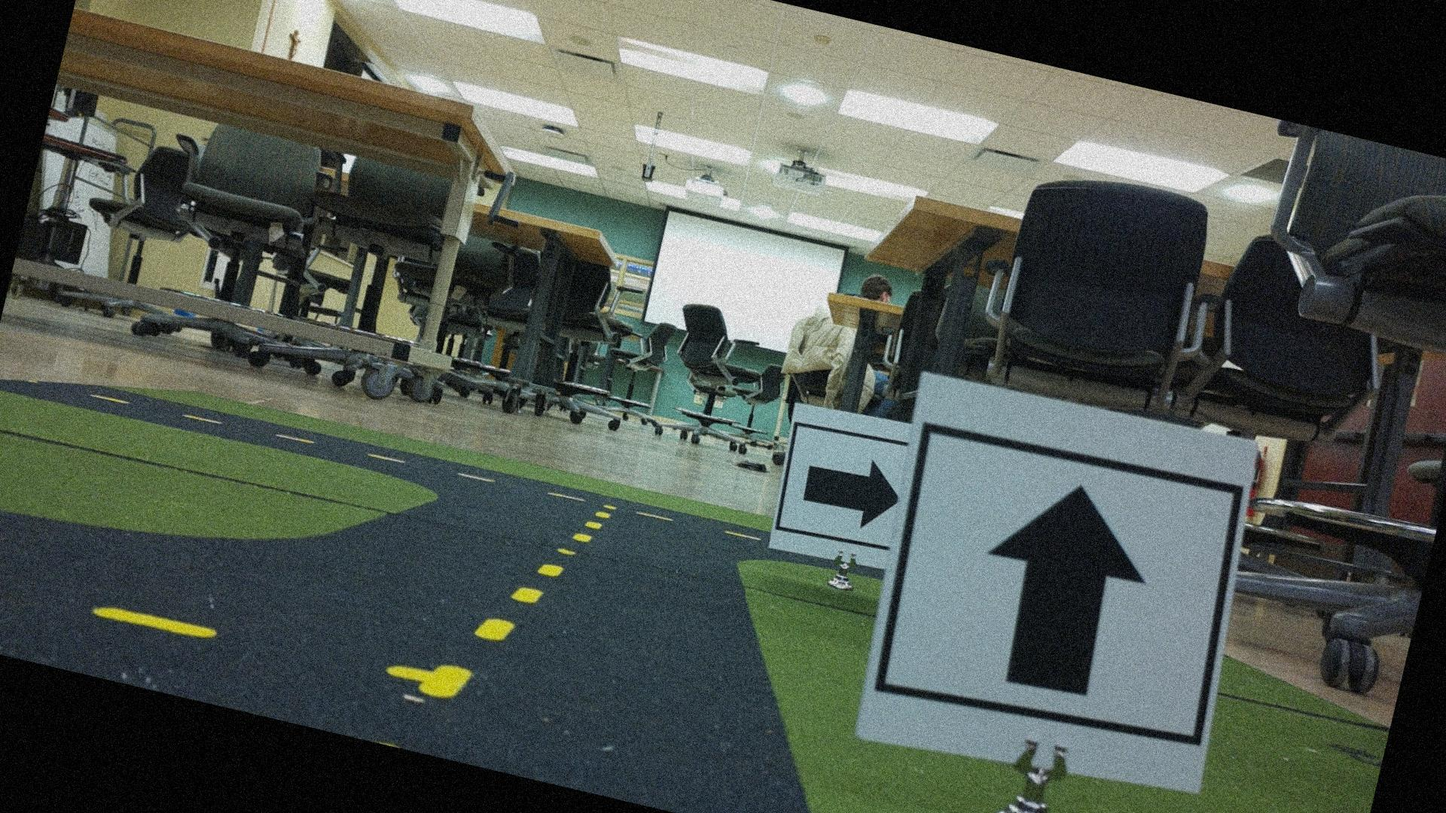gostraight: (858, 377, 1249, 800)
turnleft: (771, 419, 914, 568)
yellowline: (421, 480, 609, 726)
